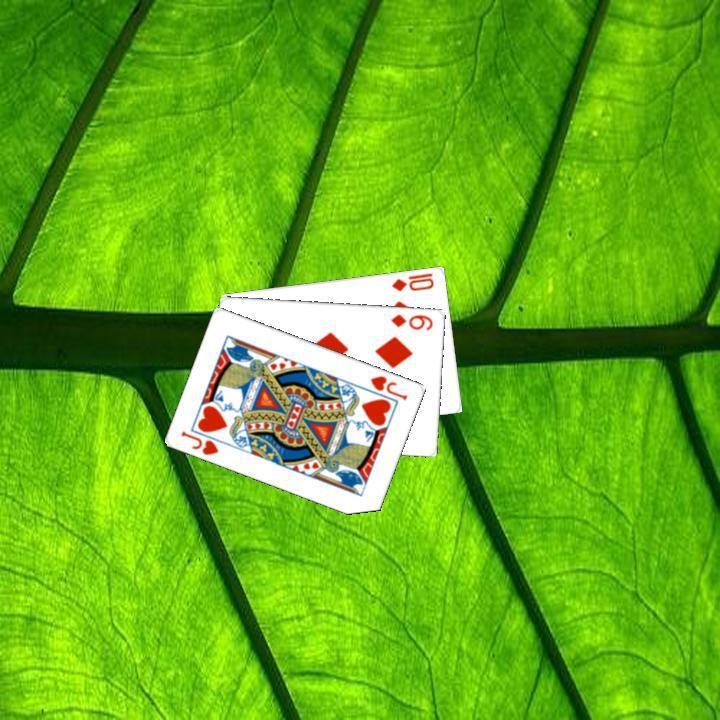10: (388, 268, 436, 293)
6: (387, 309, 435, 332)
J: (366, 371, 410, 402), (177, 426, 221, 457)
